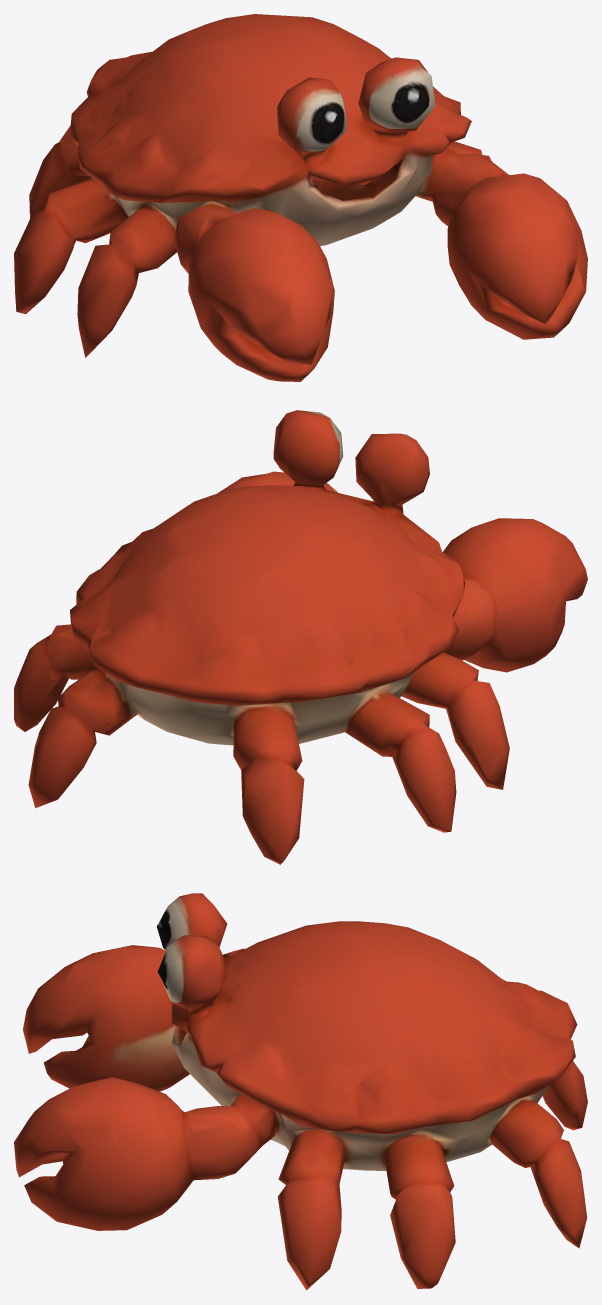
The model's file is fish-crab.glb.
3 renders of one model, top to bottom at view 1: azimuth 30°, elevation 25°; view 2: azimuth 150°, elevation 25°; view 3: azimuth 270°, elevation 25°, orthographic.
Parts seen in each view (by area): view 1: tripo_node_ced116b4-f94c-4c2d-8cf8-eb1602e1bed2; view 2: tripo_node_ced116b4-f94c-4c2d-8cf8-eb1602e1bed2; view 3: tripo_node_ced116b4-f94c-4c2d-8cf8-eb1602e1bed2.
Boxes of the visible parts, <box> form: tripo_node_ced116b4-f94c-4c2d-8cf8-eb1602e1bed2: <box>14,14,587,381</box>; tripo_node_ced116b4-f94c-4c2d-8cf8-eb1602e1bed2: <box>14,410,587,864</box>; tripo_node_ced116b4-f94c-4c2d-8cf8-eb1602e1bed2: <box>14,893,587,1290</box>.
Bounding box in the file's own units: 0.8756 × 0.5257 × 1.
1 material, 1 textured.
